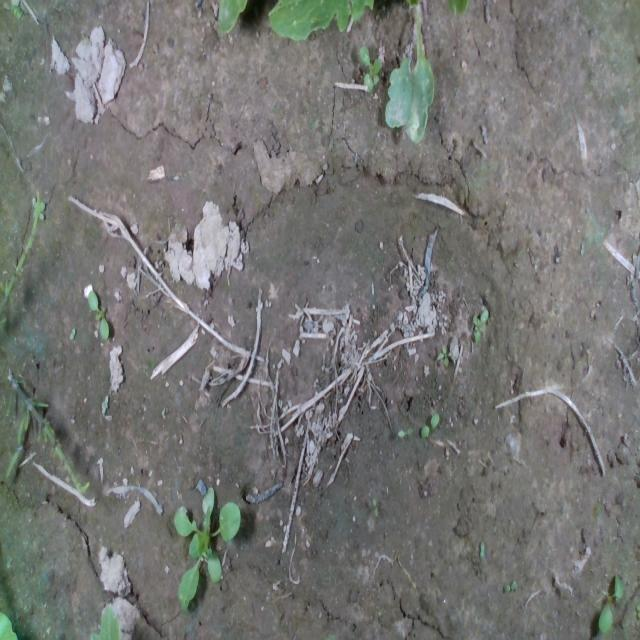weed: (598, 571, 622, 632), (86, 288, 110, 340), (358, 44, 382, 92), (420, 410, 440, 437), (471, 312, 486, 343), (435, 341, 451, 369), (395, 425, 413, 438), (371, 496, 378, 518), (68, 326, 76, 340)
